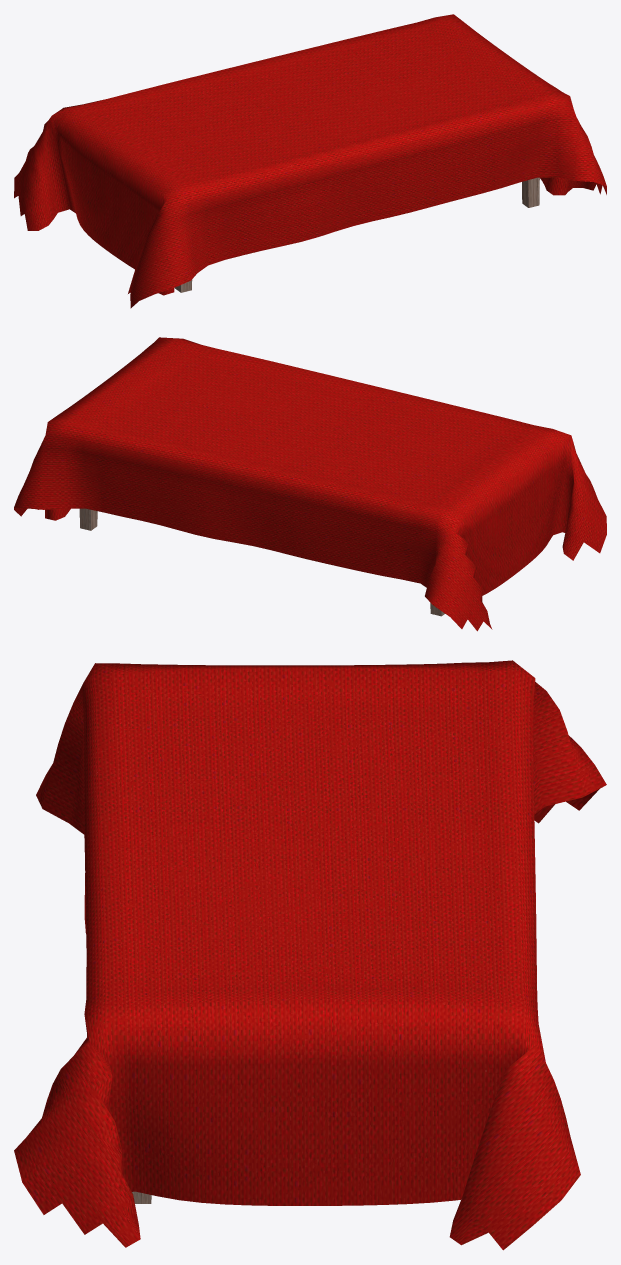
File: Chair.fbx
3 views of the same model, one above another, from view 1: azimuth 30°, elevation 25°; view 2: azimuth 150°, elevation 25°; view 3: azimuth 270°, elevation 25° (orthographic). The views are drawn at different scales.
Visible parts, largest first — view 1: Chair 2; view 2: Chair 2; view 3: Chair 2.
Part boxes in pixels (x1=…): Chair 2: x1=14, y1=14, x2=606, y2=308; Chair 2: x1=14, y1=337, x2=606, y2=631; Chair 2: x1=14, y1=660, x2=606, y2=1250.
Bounding box in the file's own units: 1374 × 316 × 817.
2 materials, 2 textured.
